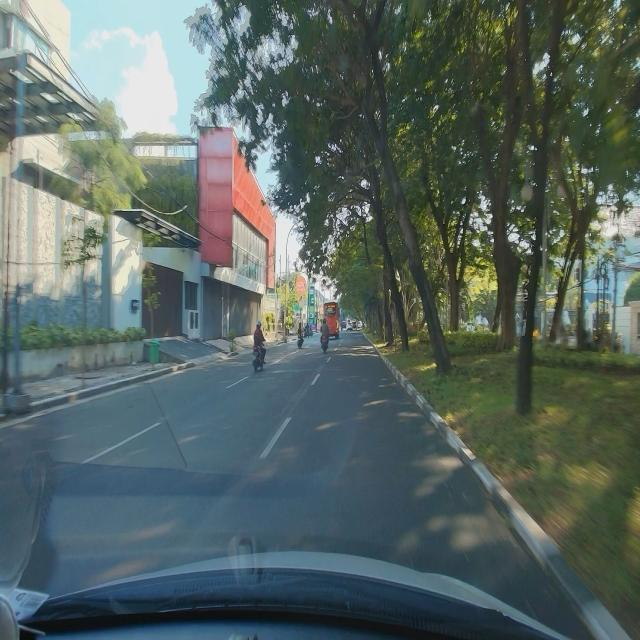bus: (322, 300, 341, 341)
